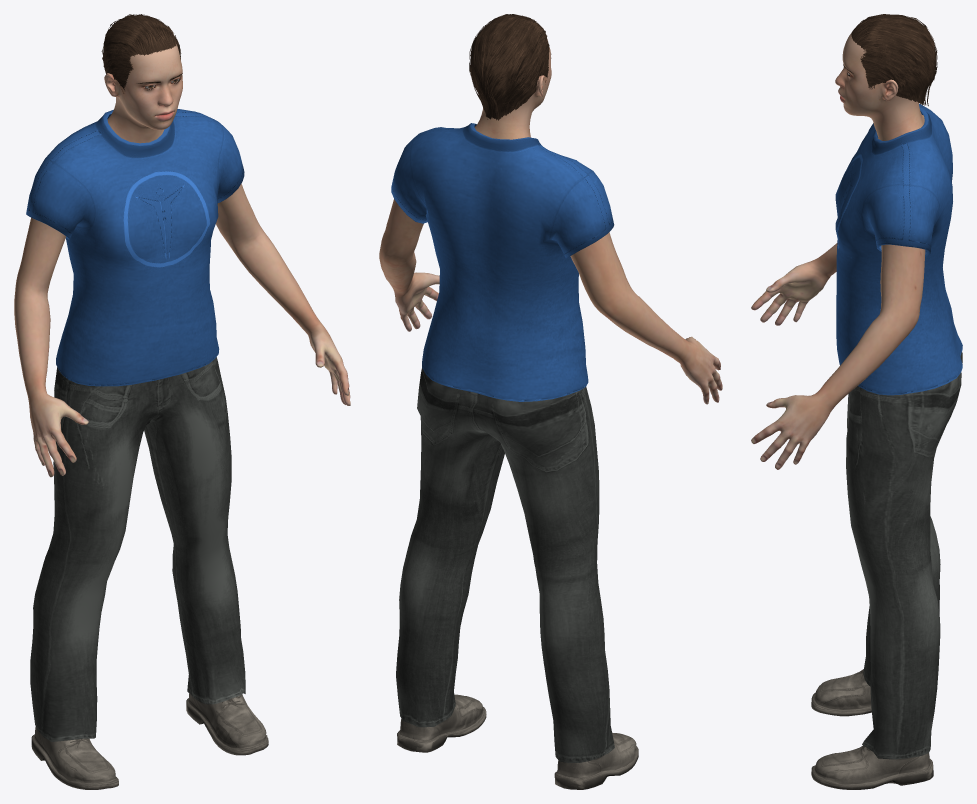
Rendered from runway-human.glb.
3 views of the same model, side by side, from view 1: azimuth 30°, elevation 25°; view 2: azimuth 150°, elevation 25°; view 3: azimuth 270°, elevation 25° (orthographic). The views are drawn at different scales.
Visible parts, largest first — view 1: Cloth_jeans, Cloth_tshirt, base, Cloth_shoes, Hair_short04; view 2: Cloth_jeans, Cloth_tshirt, base, Hair_short04, Cloth_shoes; view 3: Cloth_jeans, Cloth_tshirt, base, Cloth_shoes, Hair_short04.
Boxes of the visible parts, x1,y1,x2,y2 form: Cloth_jeans: [30, 357, 245, 741]; Cloth_tshirt: [26, 109, 244, 386]; base: [14, 44, 350, 477]; Cloth_shoes: [31, 693, 268, 789]; Hair_short04: [101, 14, 181, 93]; Cloth_jeans: [396, 368, 614, 762]; Cloth_tshirt: [391, 123, 614, 401]; base: [379, 38, 722, 404]; Hair_short04: [469, 14, 549, 120]; Cloth_shoes: [397, 694, 638, 789]; Cloth_jeans: [846, 352, 962, 759]; Cloth_tshirt: [835, 104, 962, 395]; base: [751, 33, 925, 469]; Cloth_shoes: [811, 669, 933, 789]; Hair_short04: [851, 14, 937, 106].
Size of the model in its own units: 0.8066 by 1.84 by 0.4865.
10 materials, 9 textured.
